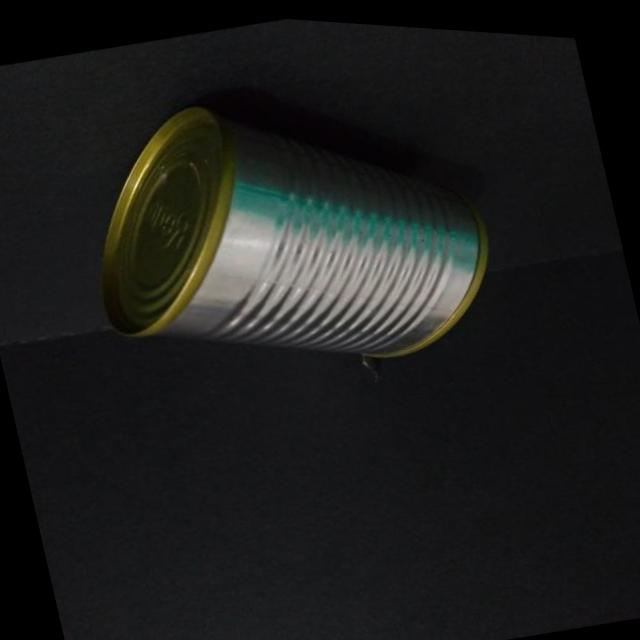metal: (102, 90, 486, 378)
